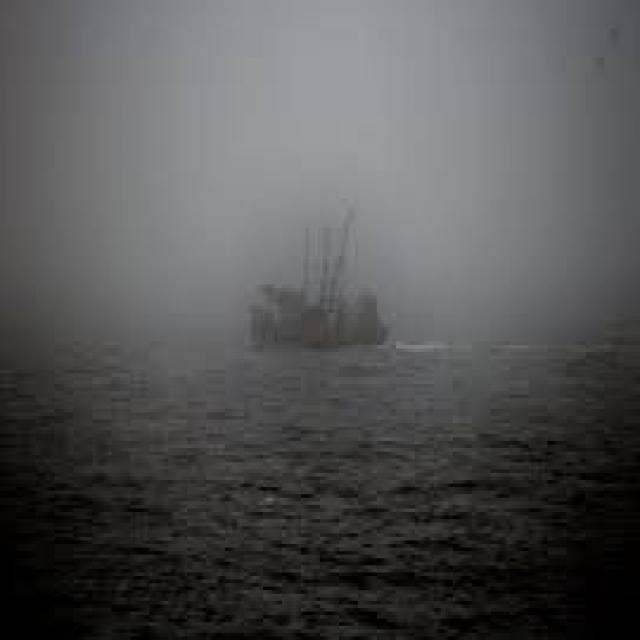fishing boat: (246, 199, 382, 351)
